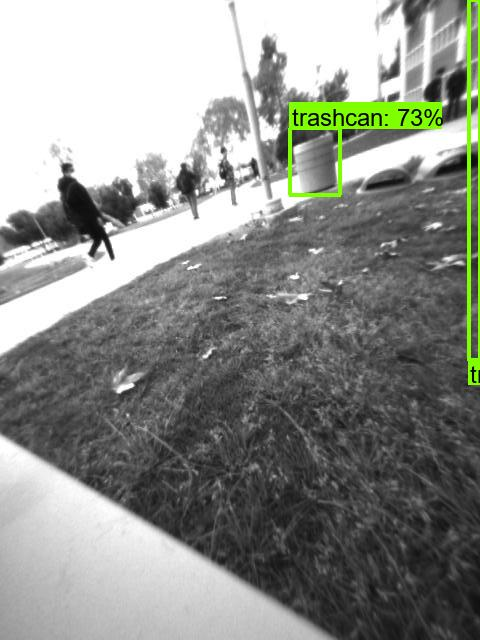trashcan: (291, 131, 343, 197)
